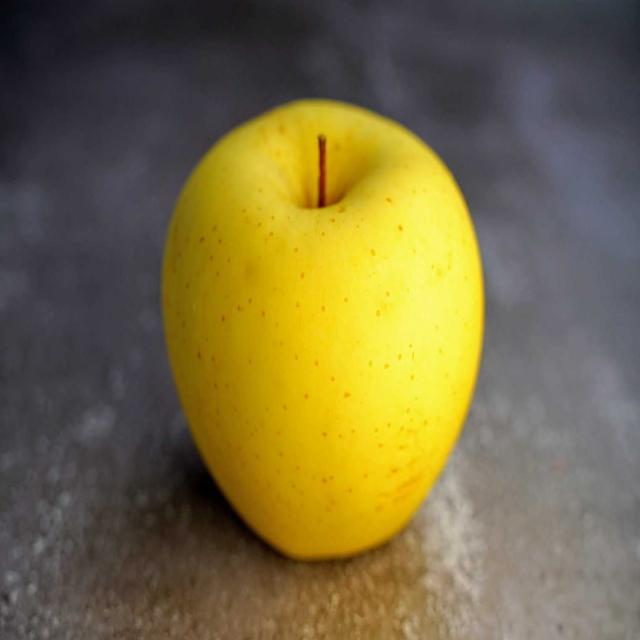Apple: (167, 94, 486, 563)
